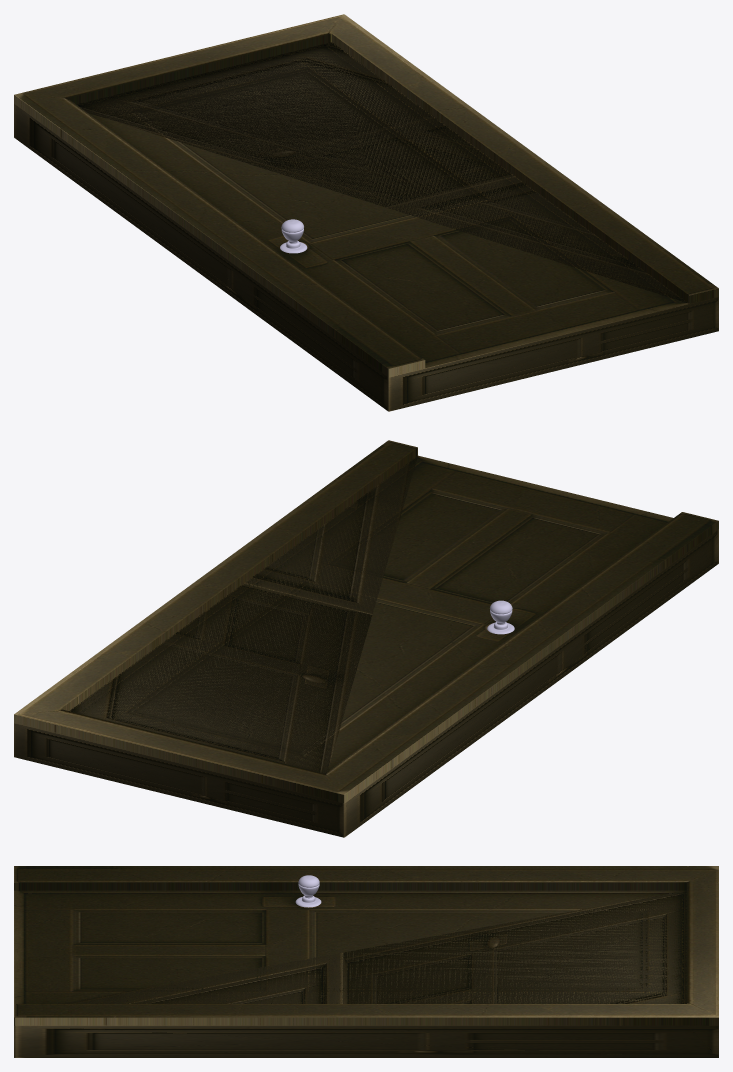
File: Yetişkinlik Kapı.fbx
3 renders of one model, top to bottom at view 1: azimuth 30°, elevation 25°; view 2: azimuth 150°, elevation 25°; view 3: azimuth 270°, elevation 25°, orthographic. The views are drawn at different scales.
Visible parts, largest first — view 1: Yetişkin Kapı Çrçv, Yetişkin Kapı; view 2: Yetişkin Kapı Çrçv, Yetişkin Kapı; view 3: Yetişkin Kapı Çrçv, Yetişkin Kapı.
Boxes of the visible parts, x1=… form: Yetişkin Kapı Çrçv: x1=14, y1=14, x2=718, y2=411; Yetişkin Kapı: x1=77, y1=43, x2=689, y2=402; Yetişkin Kapı Çrçv: x1=14, y1=440, x2=718, y2=837; Yetişkin Kapı: x1=70, y1=455, x2=673, y2=773; Yetişkin Kapı Çrçv: x1=14, y1=866, x2=718, y2=1057; Yetişkin Kapı: x1=14, y1=875, x2=686, y2=1003.
Size of the model in its own units: 200 by 35.05 by 393.
